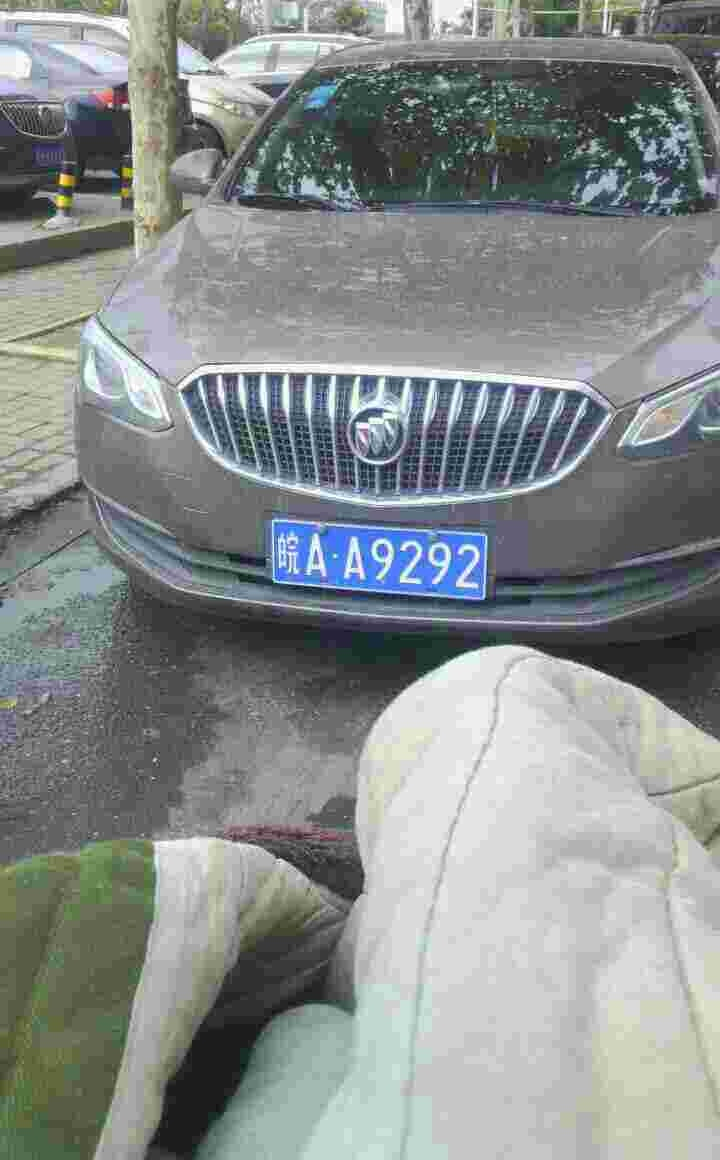plate: (271, 515, 491, 604)
